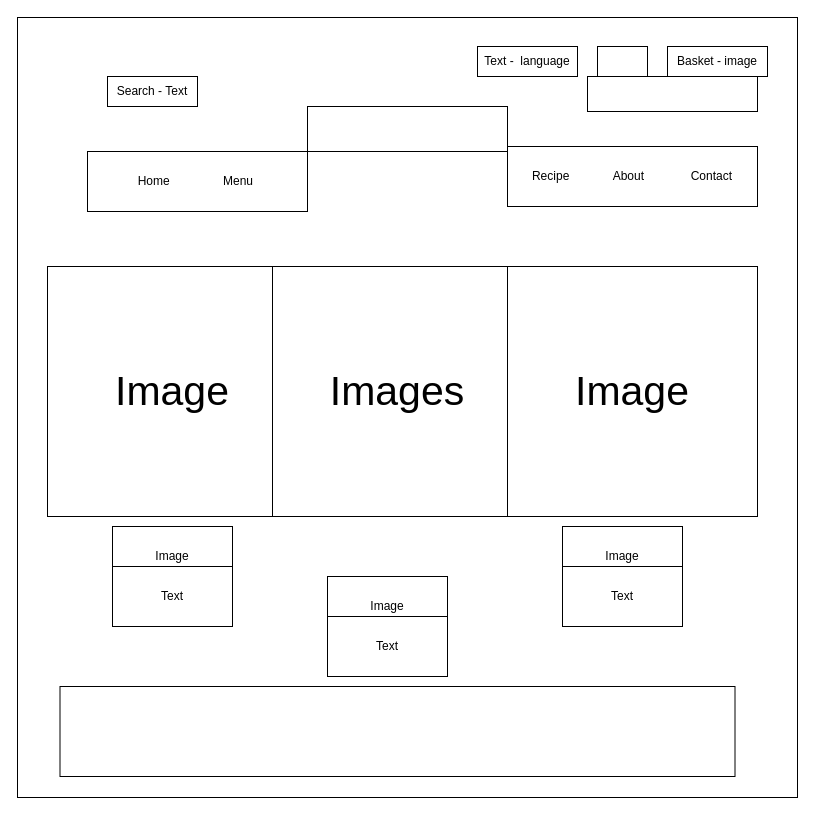
Image size: 815x815. Some labels were removed from this diagram. Here are the shapes that lost their labels. From the top down, the box of each, then its label:
(596, 46, 648, 76): login
(586, 76, 758, 112): images-social media
(306, 106, 508, 152): logo - Image/logo
(59, 686, 735, 776): images - row
